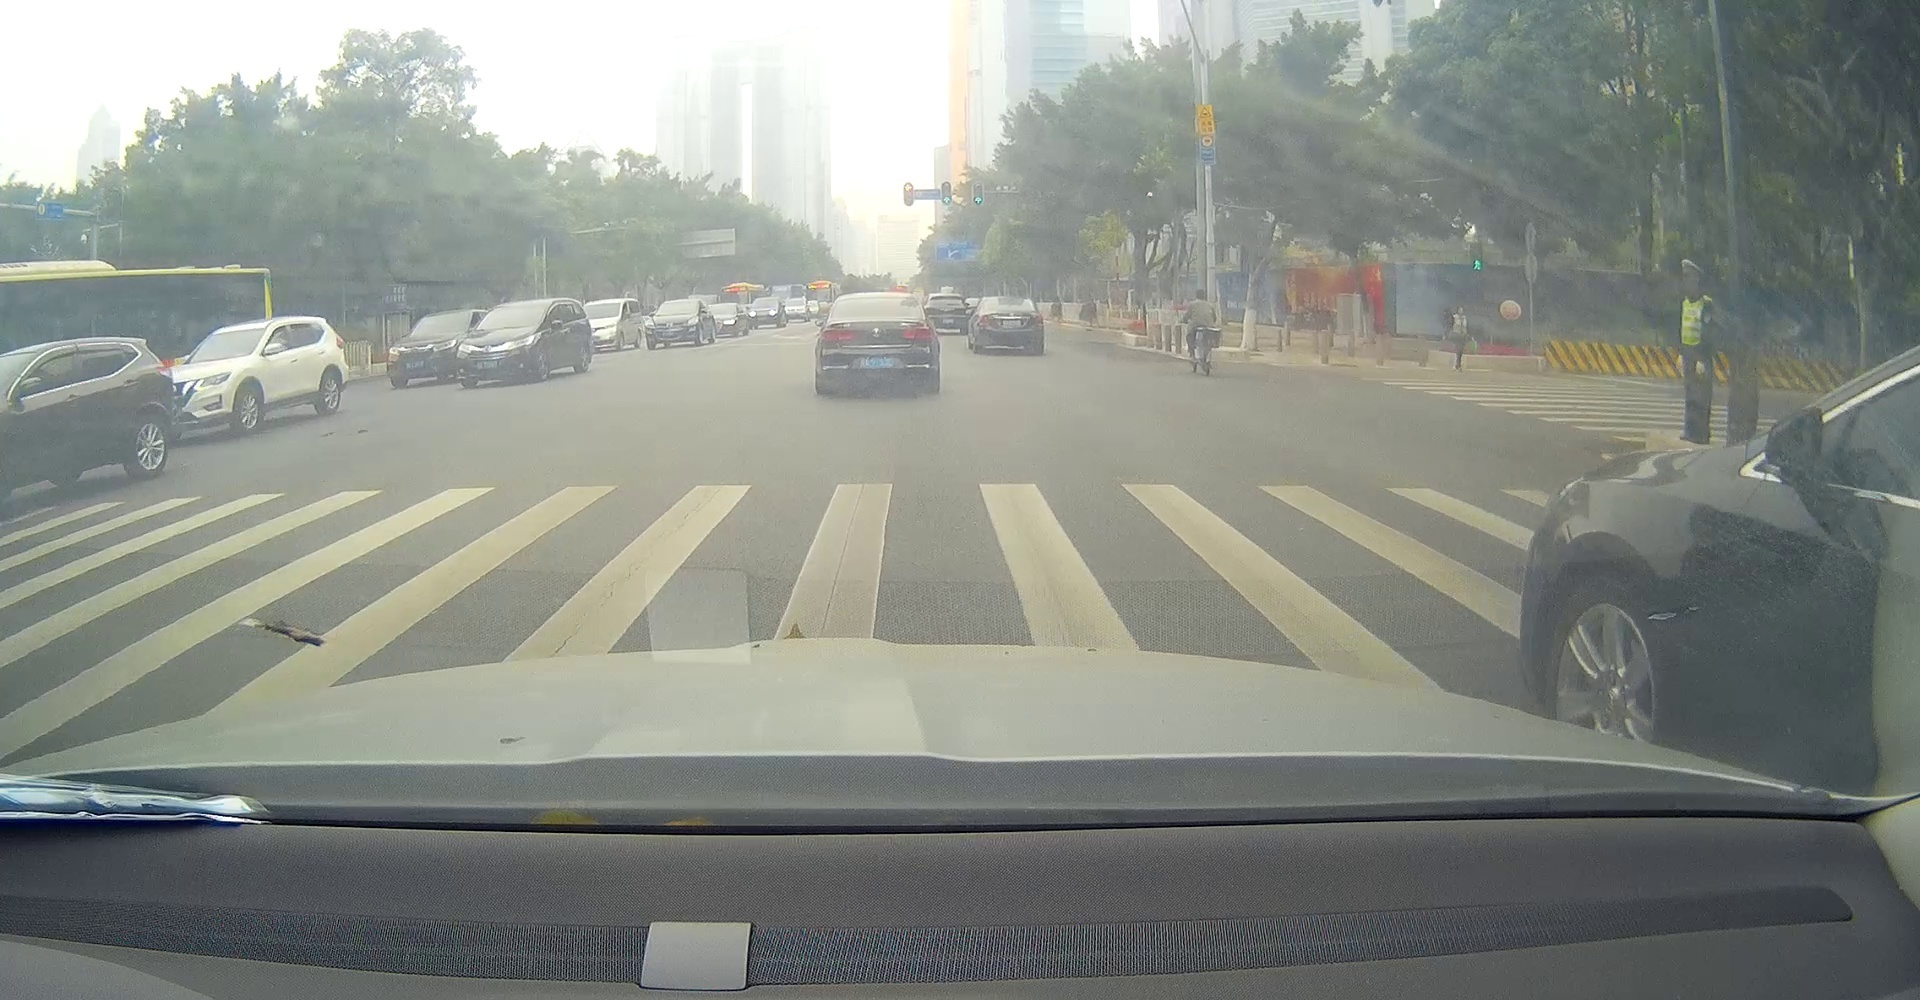L_light: (822, 329, 853, 340), (980, 313, 994, 321)
R_light: (900, 327, 931, 340), (1029, 313, 1043, 322)
T_light: (869, 297, 886, 302), (1002, 299, 1015, 302)
day-no: (815, 291, 938, 393), (979, 296, 1044, 354)
